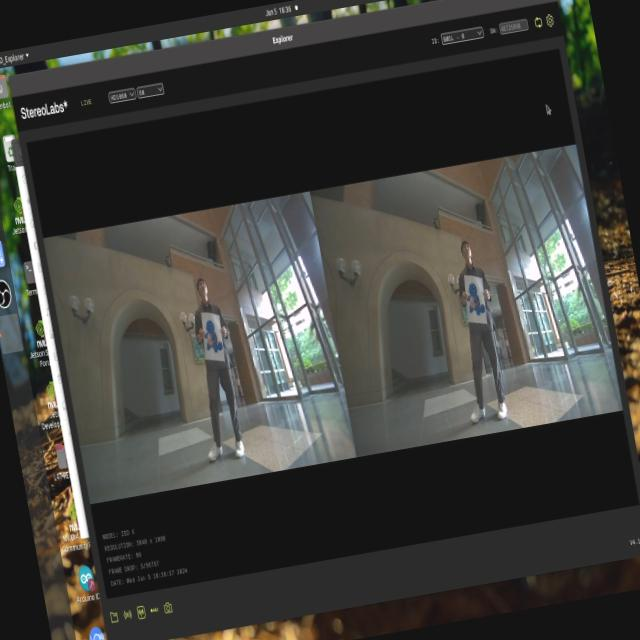blue: (200, 314, 227, 364), (466, 278, 490, 324)
